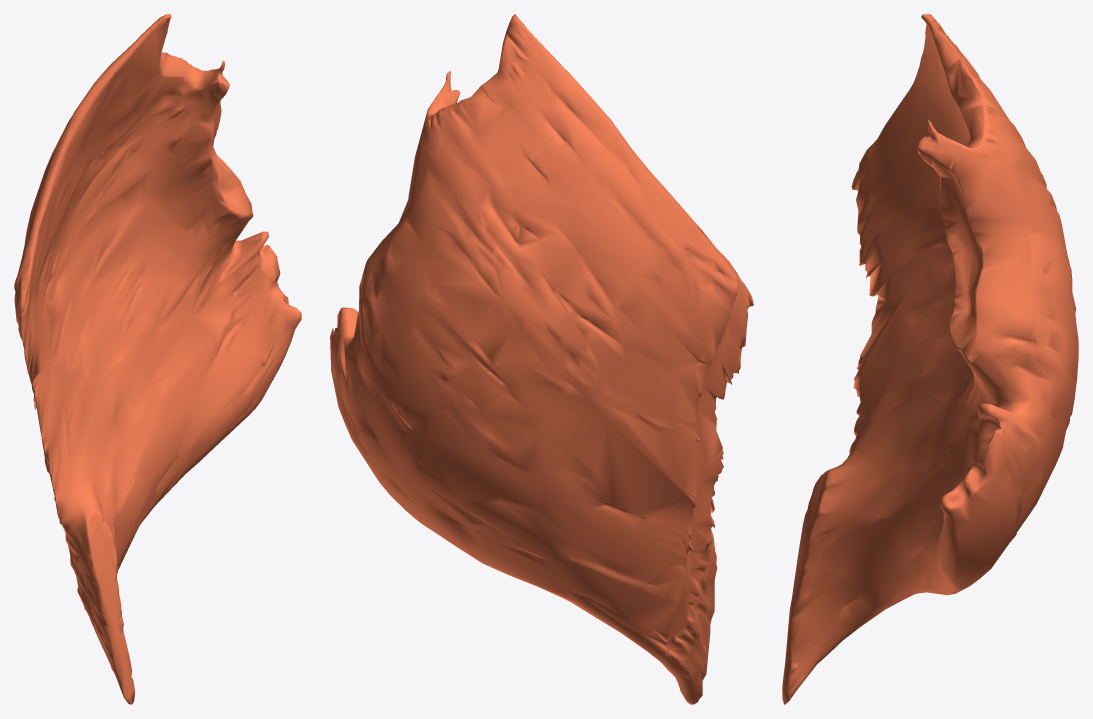
Rendered from Gluteus_maximus_muscle.r_Generated_Mesh_From_X3D.488.glb.
The picture shows the model from 3 angles, left to right: view 1: azimuth 30°, elevation 25°; view 2: azimuth 150°, elevation 25°; view 3: azimuth 270°, elevation 25°; orthographic projection. The views are drawn at different scales.
Visible parts, largest first — view 1: Gluteus_maximus_muscle.r_Generated_Mesh_From_X3D.488; view 2: Gluteus_maximus_muscle.r_Generated_Mesh_From_X3D.488; view 3: Gluteus_maximus_muscle.r_Generated_Mesh_From_X3D.488.
Boxes of the visible parts, bbox=[...] form: Gluteus_maximus_muscle.r_Generated_Mesh_From_X3D.488: bbox=[14, 14, 301, 704]; Gluteus_maximus_muscle.r_Generated_Mesh_From_X3D.488: bbox=[330, 14, 753, 704]; Gluteus_maximus_muscle.r_Generated_Mesh_From_X3D.488: bbox=[782, 14, 1078, 704].
Size of the model in its own units: 0.1453 by 0.2696 by 0.097.
